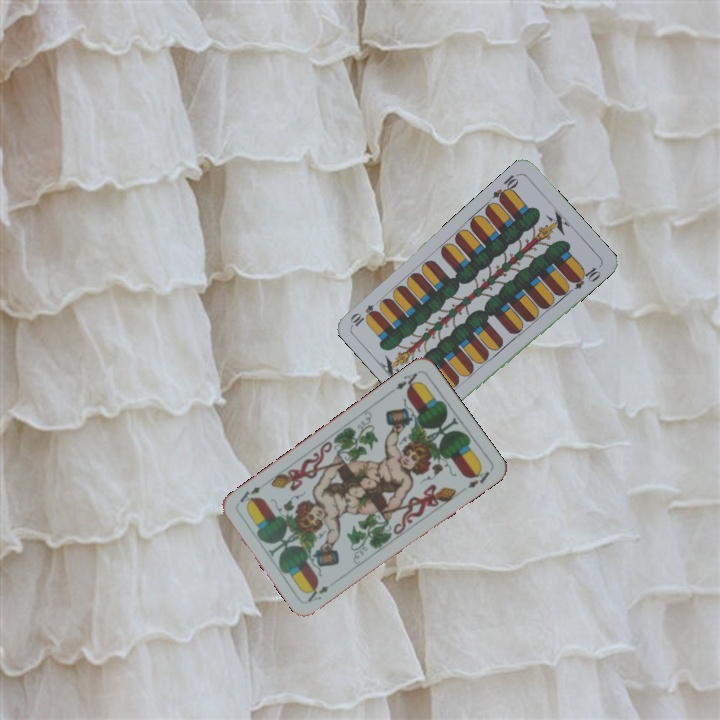E10: (488, 170, 522, 205)
EA: (391, 368, 422, 394), (303, 581, 332, 605)
